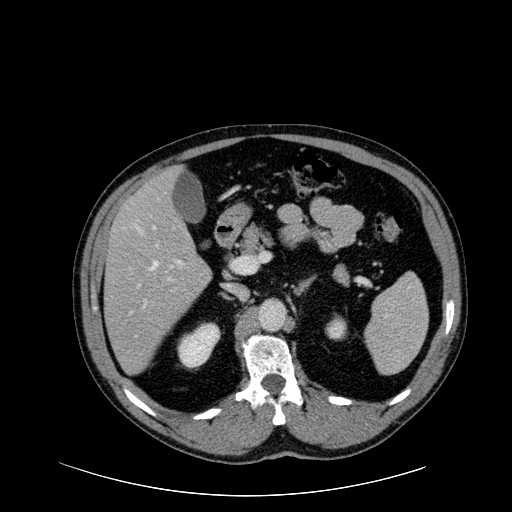vesicula: (170, 167, 209, 227)
